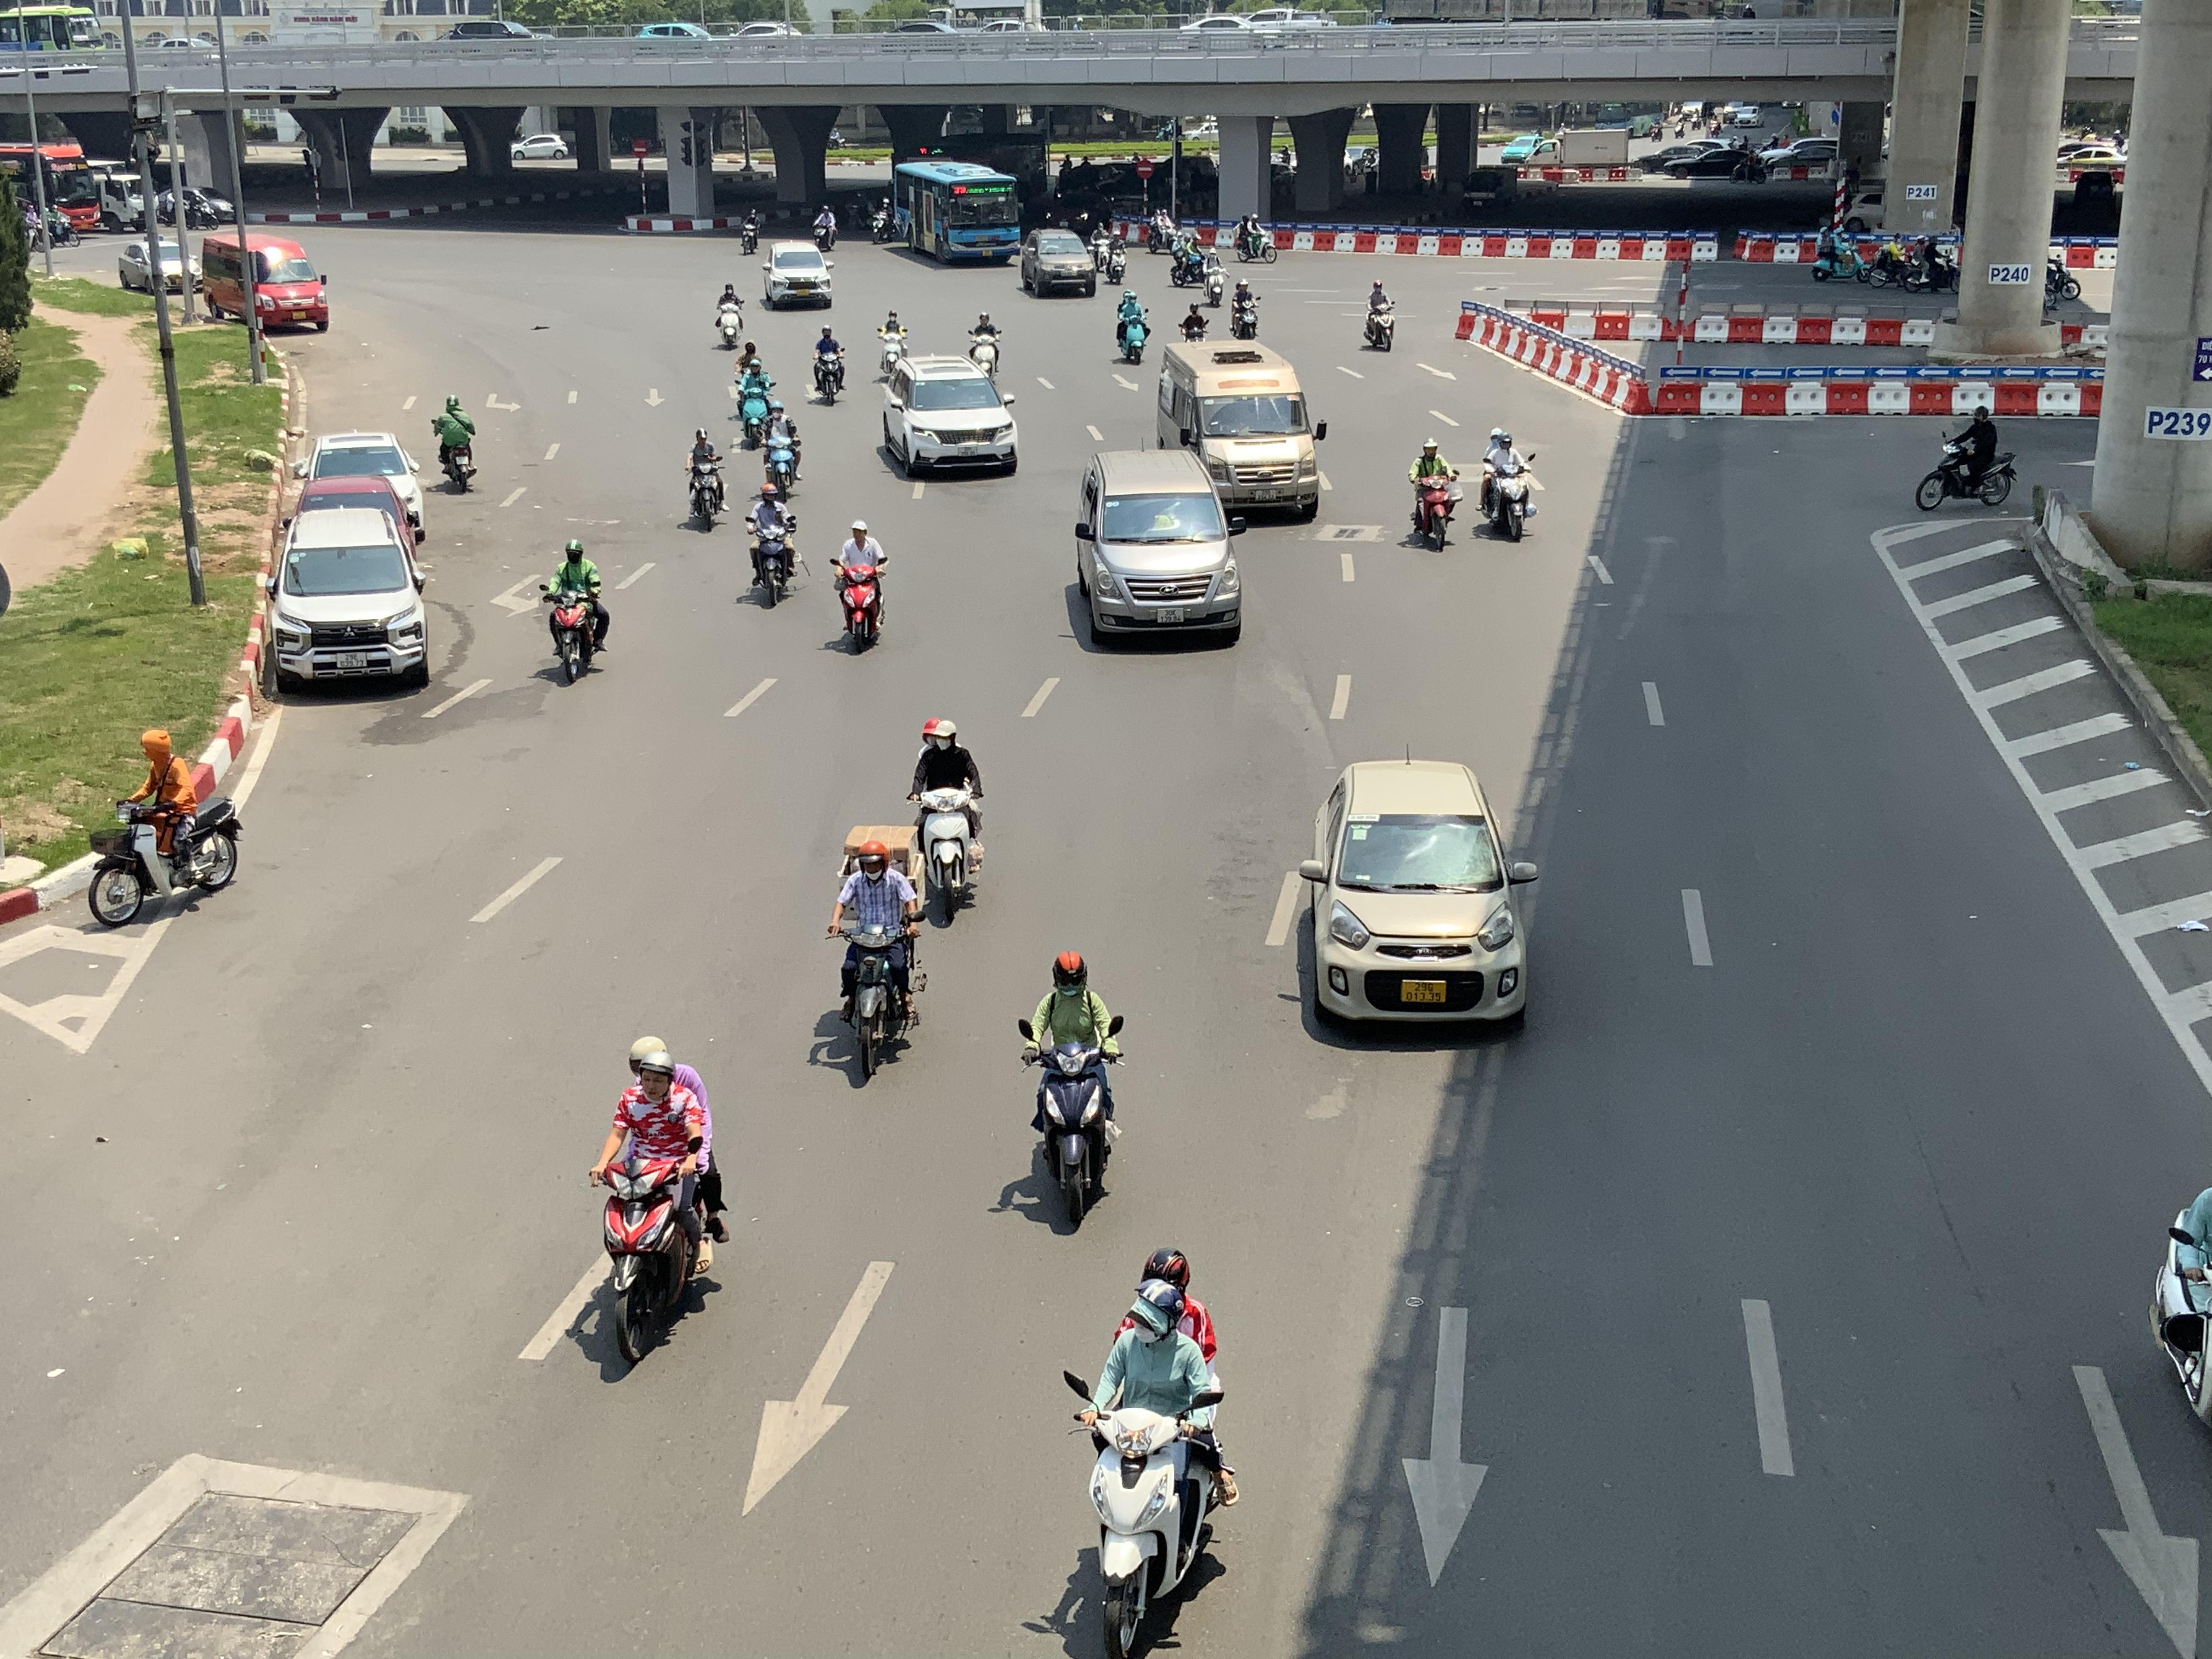BSV: (1400, 978, 1447, 1004), (338, 652, 368, 669), (1157, 608, 1184, 624), (1256, 490, 1277, 502)
bus: (1155, 338, 1329, 519), (895, 159, 1022, 267)
car: (1291, 758, 1541, 1037), (1069, 448, 1245, 650), (258, 500, 432, 694), (878, 357, 1019, 479), (293, 430, 427, 549), (195, 235, 329, 335), (1017, 228, 1097, 298), (761, 242, 834, 310), (118, 237, 195, 293), (1663, 150, 1754, 179), (1629, 146, 1703, 174), (512, 134, 570, 162), (1498, 134, 1547, 164), (1733, 106, 1764, 127)
motorbike: (1038, 1248, 1235, 1659), (587, 1033, 726, 1371), (87, 727, 244, 929), (1021, 950, 1123, 1234), (824, 824, 925, 1091), (2149, 1161, 2212, 1476), (907, 718, 984, 927), (1916, 404, 2017, 512), (542, 538, 608, 687), (831, 519, 888, 655), (744, 477, 801, 608), (1474, 427, 1536, 544), (1404, 437, 1460, 551), (683, 425, 728, 532), (432, 396, 479, 493), (730, 357, 777, 451), (759, 403, 805, 495), (1810, 218, 1872, 284), (1902, 232, 1959, 295), (808, 324, 846, 406), (1113, 289, 1151, 366), (1360, 275, 1397, 352), (876, 307, 911, 385), (1867, 232, 1916, 286), (967, 308, 1003, 378), (712, 277, 747, 349), (1233, 209, 1275, 263), (1228, 275, 1263, 340), (1169, 228, 1200, 288), (1176, 293, 1211, 342), (1200, 246, 1226, 307), (1144, 207, 1179, 251), (1103, 230, 1129, 286), (812, 200, 838, 253), (869, 197, 895, 242), (738, 209, 761, 254)
truck: (1527, 129, 1629, 171)
